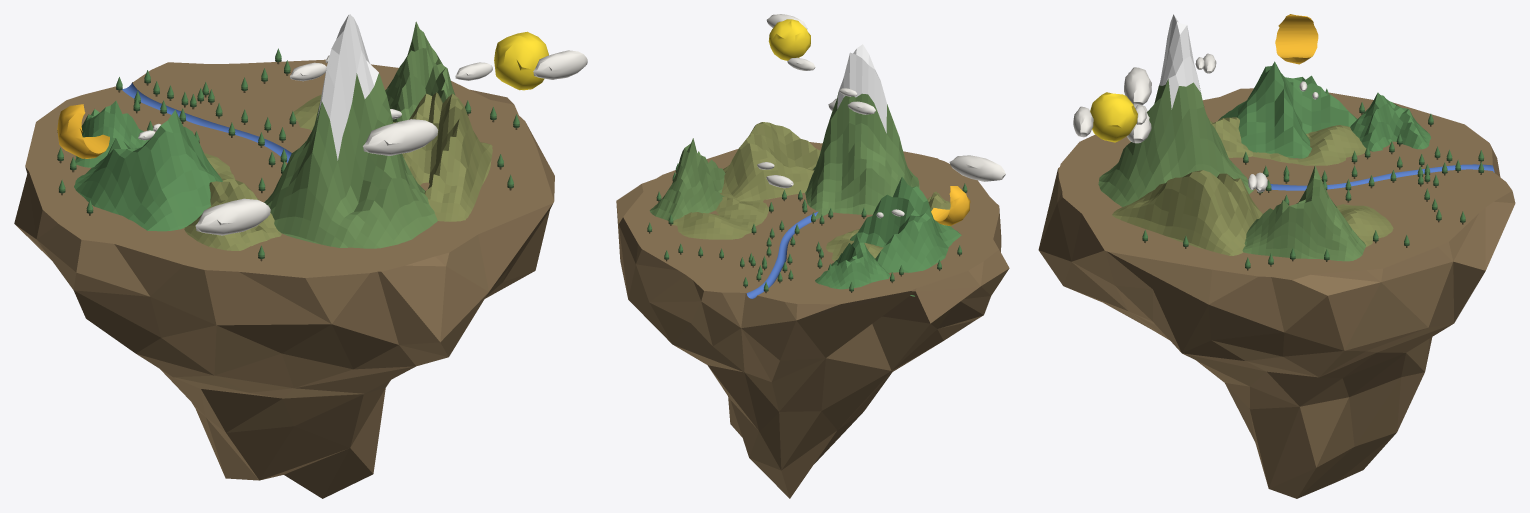
The picture shows the model from 3 angles, left to right: view 1: azimuth 30°, elevation 25°; view 2: azimuth 150°, elevation 25°; view 3: azimuth 270°, elevation 25°; orthographic projection. The views are drawn at different scales.
Visible parts, largest first — view 1: Sphere, Cube, Landscape, Landscape_3, Landscape_2, Landscape_4, Landscape_1, Polygon_Reduction_1, Landscape_5, Polygon_Reduction_9, Polygon_Reduction_10, Polygon_Reduction_11 (+2 smaller); view 2: Sphere, Cube, Landscape, Landscape_3, Landscape_2, Landscape_4, Landscape_6, Landscape_5, Polygon_Reduction_1, Polygon_Reduction_10, Subdivision_Surface_1, Polygon_Reduction_11 (+1 smaller); view 3: Sphere, Cube, Landscape, Landscape_2, Landscape_3, Landscape_4, Landscape_5, Landscape_7, Polygon_Reduction_1, Cylinder, Landscape_6, Subdivision_Surface_1 (+2 smaller).
Boxes of the visible parts, box(x1,y1,x2,y2) form: Sphere: box(14, 89, 554, 498); Cube: box(25, 59, 554, 277); Landscape: box(264, 14, 437, 248); Landscape_3: box(74, 110, 222, 231); Landscape_2: box(402, 92, 492, 221); Landscape_4: box(385, 21, 454, 122); Landscape_1: box(184, 179, 281, 250); Polygon_Reduction_1: box(494, 31, 548, 90); Landscape_5: box(75, 100, 148, 167); Polygon_Reduction_9: box(363, 119, 438, 155); Polygon_Reduction_10: box(195, 198, 270, 235); Polygon_Reduction_11: box(57, 104, 105, 158); Sphere: box(616, 184, 1009, 498); Cube: box(623, 142, 999, 304); Landscape: box(805, 44, 919, 219); Landscape_3: box(850, 177, 961, 296); Landscape_2: box(722, 122, 820, 201); Landscape_4: box(649, 138, 725, 220); Landscape_6: box(668, 192, 768, 239); Landscape_5: box(815, 234, 889, 289); Polygon_Reduction_1: box(768, 19, 810, 60); Polygon_Reduction_10: box(949, 155, 1005, 181); Subdivision_Surface_1: box(746, 211, 818, 298); Polygon_Reduction_11: box(936, 186, 970, 226); Sphere: box(1038, 144, 1515, 498); Cube: box(1058, 88, 1512, 279); Landscape: box(1098, 14, 1254, 206); Landscape_2: box(1112, 170, 1262, 255); Landscape_3: box(1218, 61, 1357, 158); Landscape_4: box(1242, 165, 1365, 261); Landscape_5: box(1350, 92, 1430, 151); Landscape_7: box(1252, 125, 1366, 165); Polygon_Reduction_1: box(1090, 92, 1137, 142); Cylinder: box(1275, 15, 1318, 57); Landscape_6: box(1336, 204, 1393, 246); Subdivision_Surface_1: box(1270, 164, 1494, 190).
Size of the model in its own units: 588 by 634 by 588.
